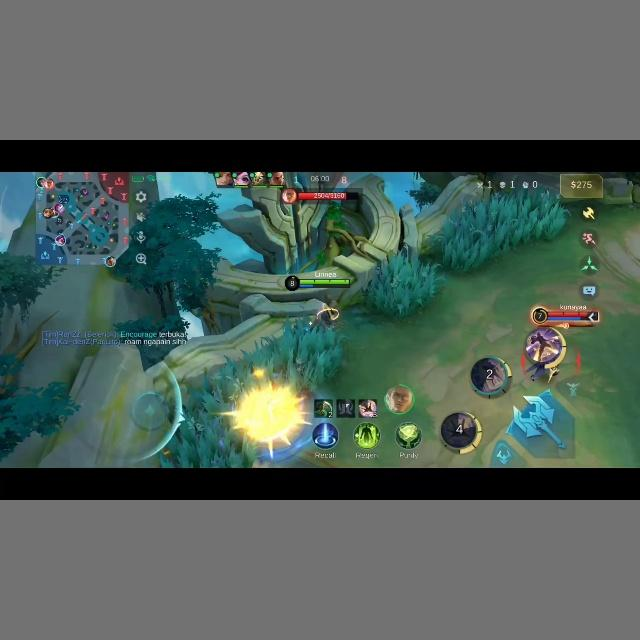hero_enemy: (526, 330, 569, 382)
hero_self: (310, 301, 345, 331)
hp_enemy: (527, 305, 601, 327)
hp_self: (294, 276, 354, 290)
